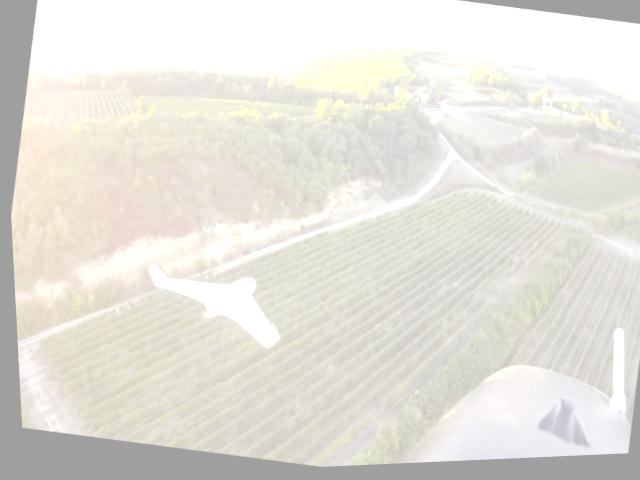plane: (133, 258, 287, 359)
